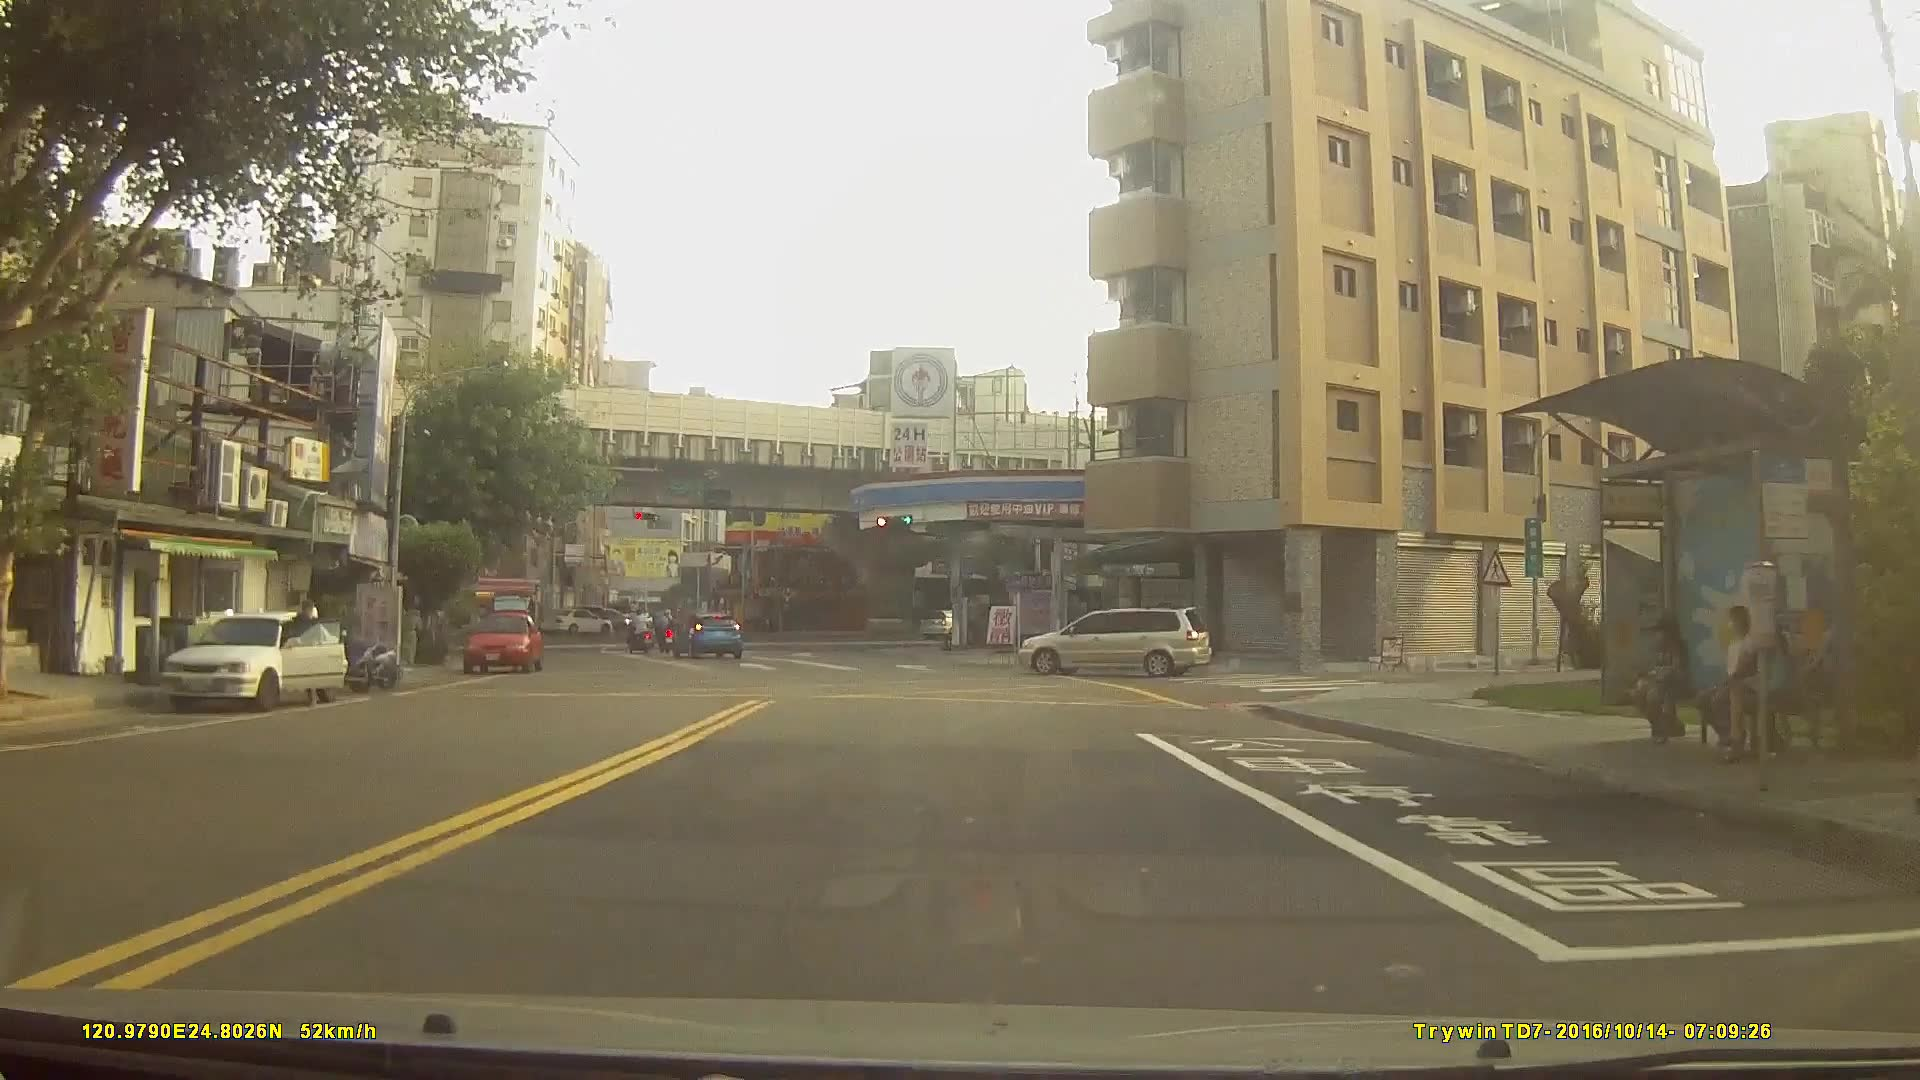pedestrian: (1636, 618, 1699, 745)
rider: (624, 608, 655, 658)
vehicle: (162, 607, 345, 713), (1016, 605, 1213, 675), (463, 610, 546, 673), (669, 611, 744, 658), (543, 606, 612, 636), (544, 605, 608, 636)
